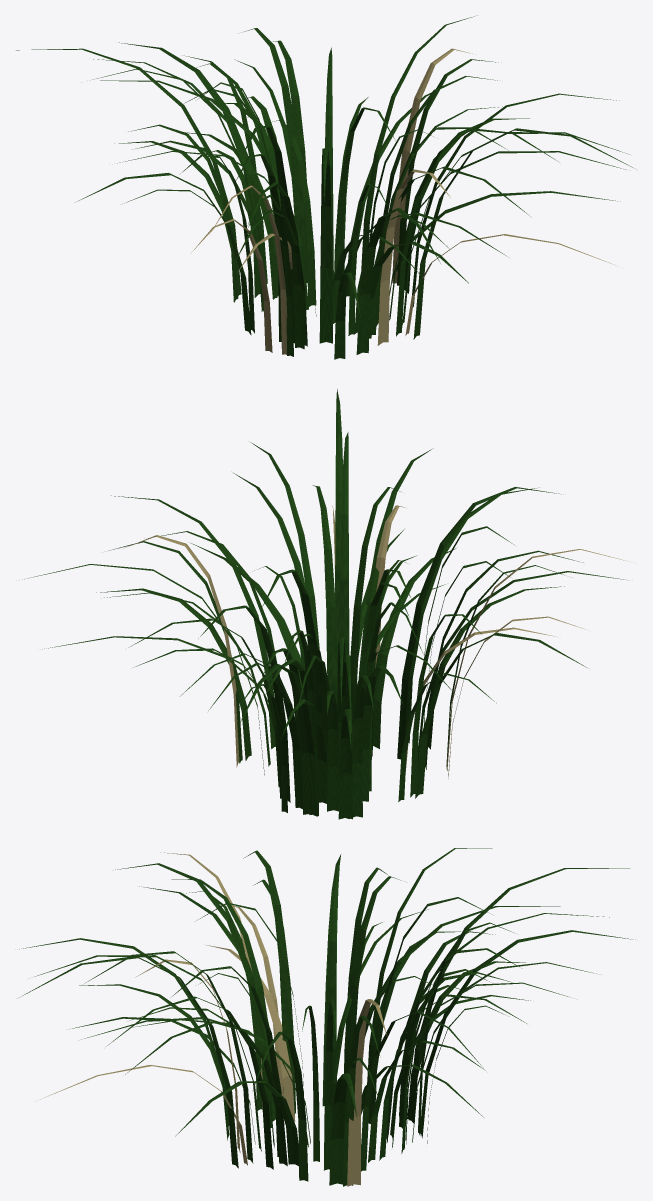
The model's file is Woodland_Grass_Tuft_01_LOD0.fbx.
The picture shows the model from 3 angles, top to bottom: view 1: azimuth 30°, elevation 25°; view 2: azimuth 150°, elevation 25°; view 3: azimuth 270°, elevation 25°; orthographic projection. The views are drawn at different scales.
Parts seen in each view (by area): view 1: Woodland_Grass_Tuft_01_LOD0_Foliage; view 2: Woodland_Grass_Tuft_01_LOD0_Foliage; view 3: Woodland_Grass_Tuft_01_LOD0_Foliage.
Part boxes in pixels (<box>): Woodland_Grass_Tuft_01_LOD0_Foliage: <box>16,15,632,359</box>; Woodland_Grass_Tuft_01_LOD0_Foliage: <box>24,389,628,819</box>; Woodland_Grass_Tuft_01_LOD0_Foliage: <box>19,848,635,1186</box>.
Bounding box in the file's own units: 78.68 × 35.72 × 82.77.
2 materials, 1 textured.
